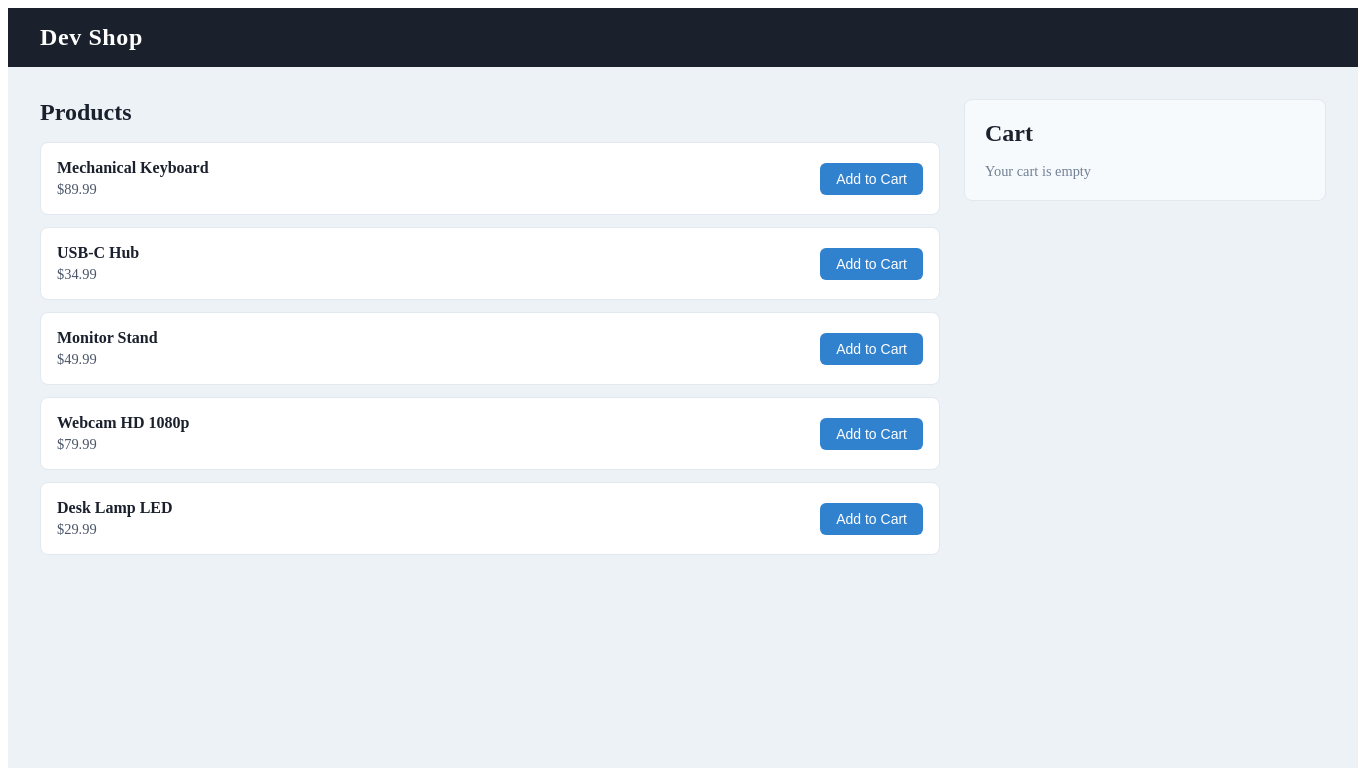
Test: Add to cart › adds a product to the cart when "Add to Cart" is clicked
Step 1. Click the button "Add to Cart" in the row of "Mechanical Keyboard" → click(872, 178), box [820, 162, 923, 194]
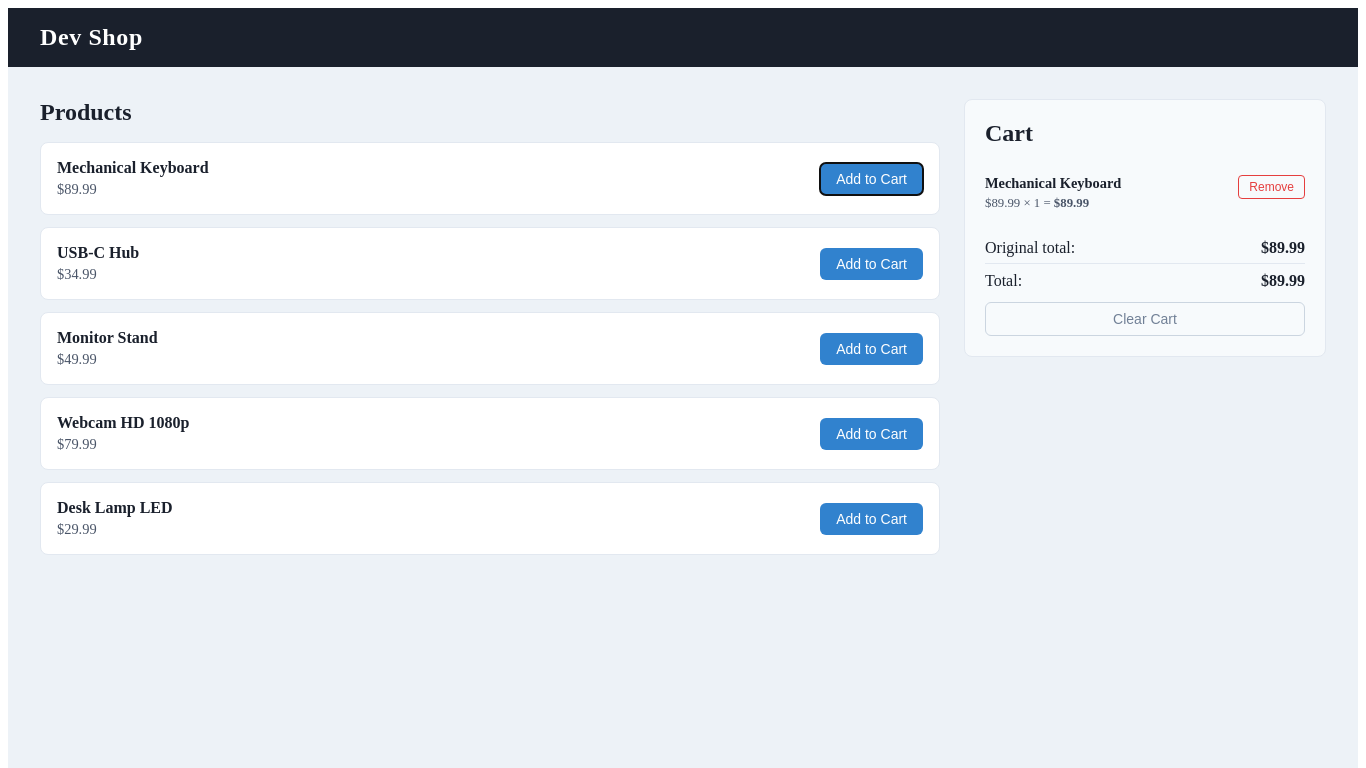
Now the text "Mechanical Keyboard" is shown, box [985, 175, 1121, 191]
